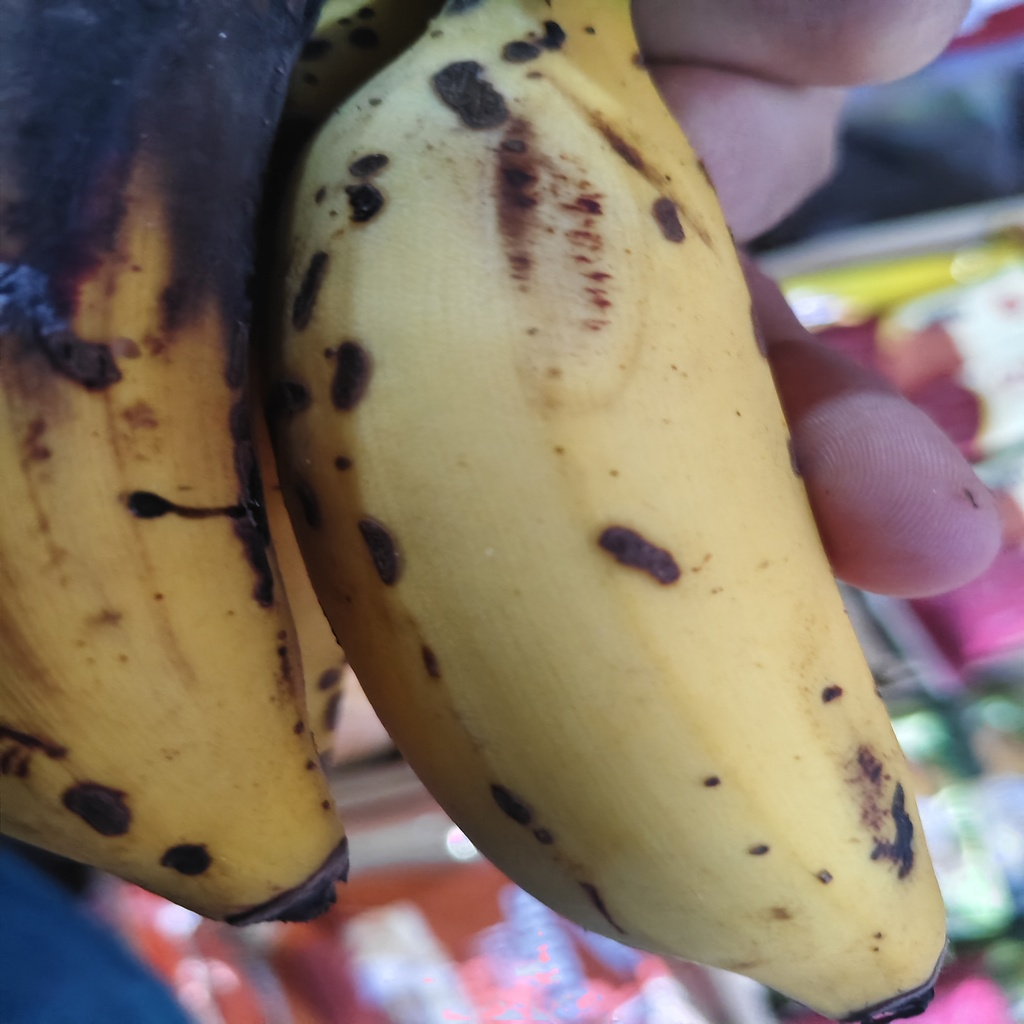unhealthy: (277, 19, 943, 1006), (1, 12, 350, 902)
